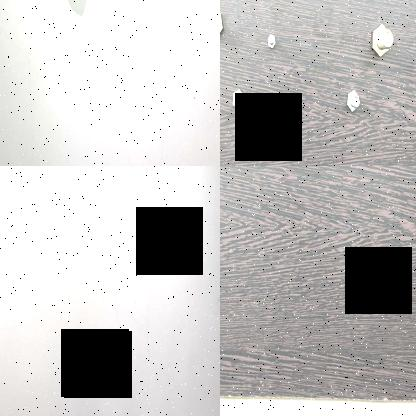Bolts: (370, 20, 393, 61), (226, 83, 248, 117), (344, 84, 362, 114), (266, 35, 282, 51), (220, 4, 225, 50)
